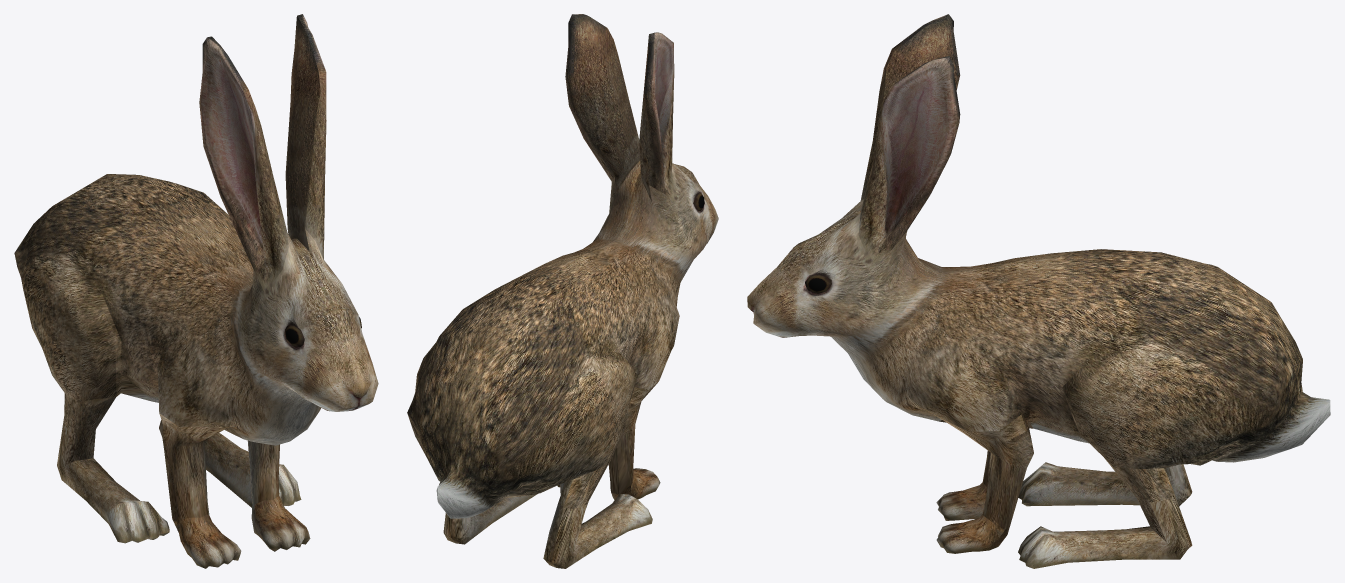
Rendered from rabbit.glb.
3 renders of one model, left to right at view 1: azimuth 30°, elevation 25°; view 2: azimuth 150°, elevation 25°; view 3: azimuth 270°, elevation 25°, orthographic. The views are drawn at different scales.
Parts seen in each view (by area): view 1: rabbit; view 2: rabbit; view 3: rabbit.
Part boxes in pixels (left/top/right/bottom): rabbit: left=14, top=14, right=378, bottom=568; rabbit: left=407, top=14, right=718, bottom=568; rabbit: left=747, top=14, right=1330, bottom=568.
Size of the model in its own units: 0.464 by 1.17 by 1.25.
Materials: 1 (1 with a texture image).
